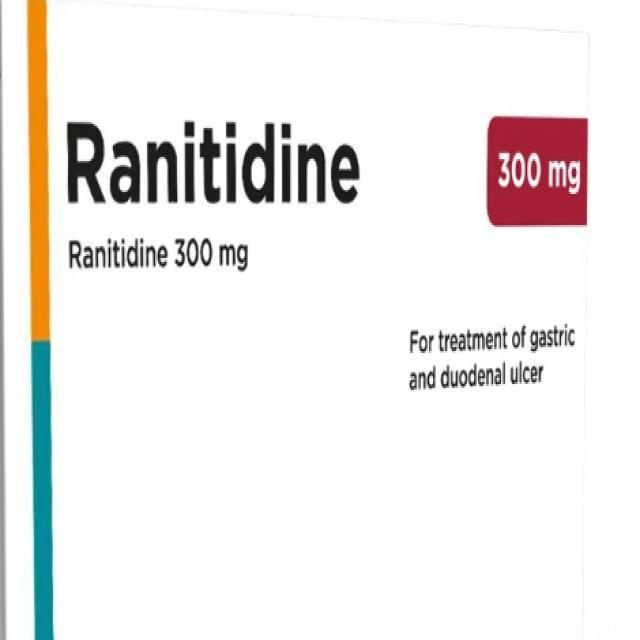drug-name: (62, 116, 364, 212)
